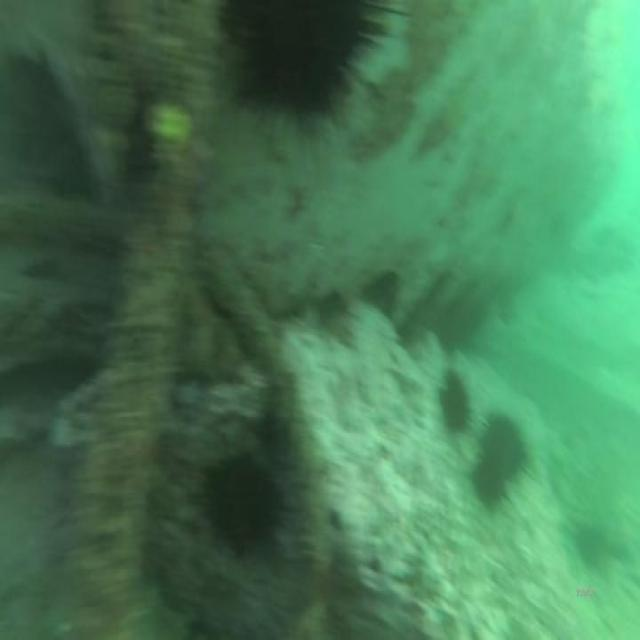echinus: (218, 1, 380, 130), (205, 452, 280, 555), (484, 408, 528, 485), (468, 451, 512, 518), (438, 368, 468, 443)
